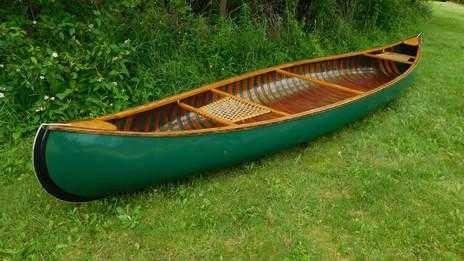kayak: (35, 32, 424, 205)
